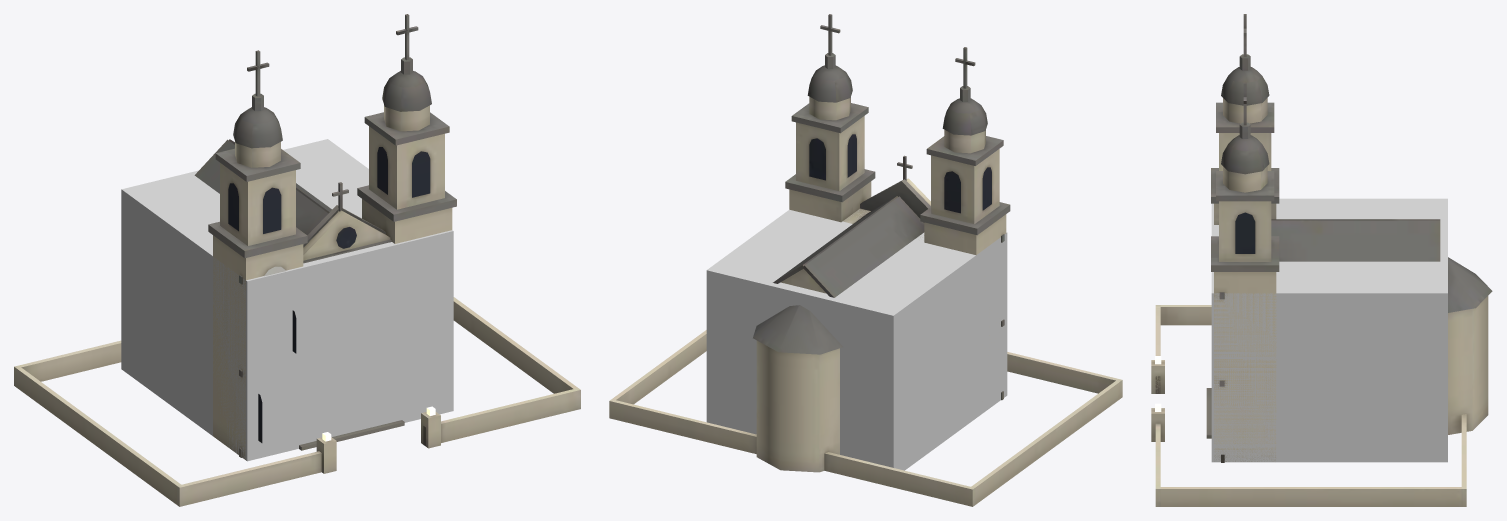
Rendered from st_josephs_cathedral.glb.
The picture shows the model from 3 angles, left to right: view 1: azimuth 30°, elevation 25°; view 2: azimuth 150°, elevation 25°; view 3: azimuth 270°, elevation 25°; orthographic projection. The views are drawn at different scales.
Parts seen in each view (by area): view 1: COL_sj, st_josephs_cathedral_body; view 2: st_josephs_cathedral_body, COL_sj; view 3: COL_sj, st_josephs_cathedral_body.
Part boxes in pixels (left/top/right/bottom): COL_sj: left=121, top=139, right=453, bottom=461; st_josephs_cathedral_body: left=14, top=14, right=580, bottom=506; st_josephs_cathedral_body: left=609, top=14, right=1122, bottom=506; COL_sj: left=706, top=209, right=1007, bottom=470; COL_sj: left=1211, top=198, right=1447, bottom=462; st_josephs_cathedral_body: left=1151, top=14, right=1492, bottom=506.
Bounding box in the file's own units: 70 × 65 × 54.9.
Materials: 2 (1 with a texture image).
